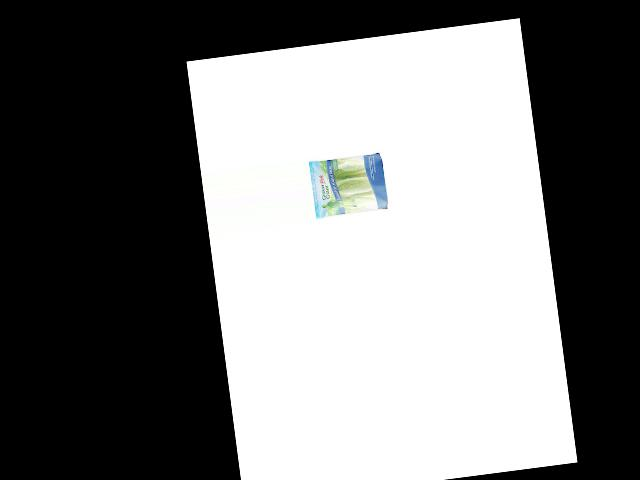lettuce: (311, 151, 392, 220)
